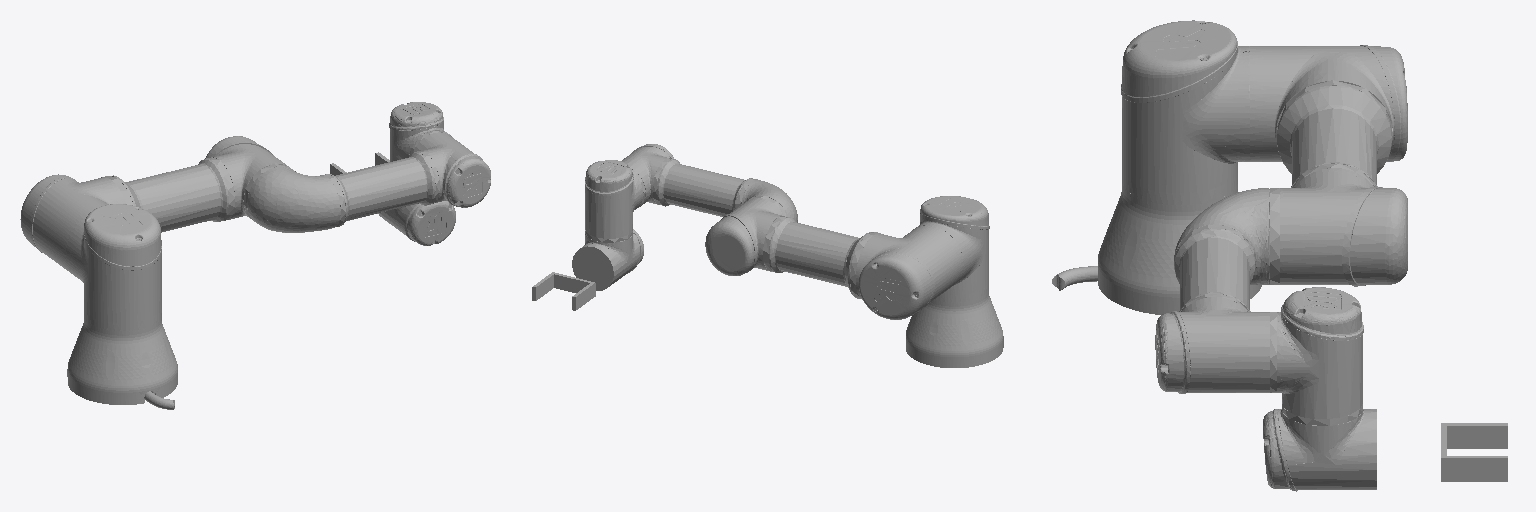
robot.urdf — ur3:
<?xml version="1.0" ?>
<!-- =================================================================================== -->
<!-- |    This document was autogenerated by xacro from [local-path]/devel/pinocchio/src/universal_robot/ur_description/urdf/ur3_joint_limited_robot.urdf.xacro | -->
<!-- |    EDITING THIS FILE BY HAND IS NOT RECOMMENDED                                 | -->
<!-- =================================================================================== -->
<robot name="ur3" xmlns:xacro="http://www.ros.org/wiki/xacro">
  <!-- common stuff -->
  <gazebo>
    <plugin filename="libgazebo_ros_control.so" name="ros_control">
      <!--robotNamespace>/</robotNamespace-->
      <!--robotSimType>gazebo_ros_control/DefaultRobotHWSim</robotSimType-->
    </plugin>
    <!--
    <plugin name="gazebo_ros_power_monitor_controller" filename="libgazebo_ros_power_monitor.so">
      <alwaysOn>true</alwaysOn>
      <updateRate>1.0</updateRate>
      <timeout>5</timeout>
      <powerStateTopic>power_state</powerStateTopic>
      <powerStateRate>10.0</powerStateRate>
      <fullChargeCapacity>87.78</fullChargeCapacity>     
      <dischargeRate>-474</dischargeRate>
      <chargeRate>525</chargeRate>
      <dischargeVoltage>15.52</dischargeVoltage>
      <chargeVoltage>16.41</chargeVoltage>
    </plugin>
-->
  </gazebo>
  <!-- ur3 -->
  <!--
  Author: [author]
-->
  <!-- Inertia parameters -->
  <!-- This mass might be incorrect -->
  <!-- These parameters are borrowed from the urcontrol.conf file
       but are not verified for the correct permutation.
       The permutation was guessed by looking at the UR5 parameters.
       Serious use of these parameters needs further inspection. -->
  <!-- Kinematic model -->
  <!-- Properties from urcontrol.conf -->
  <!-- Arbitrary offsets for shoulder/elbow joints -->
  <!-- measured from model -->
  <!-- measured from model -->
  <!-- link lengths used in model -->
  <!-- arm -->
  <link name="base_link">
    <visual>
      <geometry>
        <mesh filename="package://ur_description/meshes/ur3/visual/base.dae"/>
      </geometry>
      <material name="LightGrey">
        <color rgba="0.7 0.7 0.7 1.0"/>
      </material>
    </visual>
    <collision>
      <geometry>
        <mesh filename="package://ur_description/meshes/ur3/collision/base.stl"/>
      </geometry>
    </collision>
    <inertial>
      <mass value="2.0"/>
      <origin rpy="0 0 0" xyz="0.0 0.0 0.0"/>
      <inertia ixx="0.0030531654454" ixy="0.0" ixz="0.0" iyy="0.0030531654454" iyz="0.0" izz="0.005625"/>
    </inertial>
  </link>
  <joint name="shoulder_pan_joint" type="revolute">
    <parent link="base_link"/>
    <child link="shoulder_link"/>
    <origin rpy="0.0 0.0 0.0" xyz="0.0 0.0 0.1519"/>
    <axis xyz="0 0 1"/>
    <limit effort="330.0" lower="-3.14159265" upper="3.14159265" velocity="2.16"/>
    <dynamics damping="0.0" friction="0.0"/>
  </joint>
  <link name="shoulder_link">
    <visual>
      <geometry>
        <mesh filename="package://ur_description/meshes/ur3/visual/shoulder.dae"/>
      </geometry>
      <material name="LightGrey">
        <color rgba="0.7 0.7 0.7 1.0"/>
      </material>
    </visual>
    <collision>
      <geometry>
        <mesh filename="package://ur_description/meshes/ur3/collision/shoulder.stl"/>
      </geometry>
    </collision>
    <inertial>
      <mass value="2.0"/>
      <origin rpy="0 0 0" xyz="0.0 0.0 0.0"/>
      <inertia ixx="0.0080931634294" ixy="0.0" ixz="0.0" iyy="0.0080931634294" iyz="0.0" izz="0.005625"/>
    </inertial>
  </link>
  <joint name="shoulder_lift_joint" type="revolute">
    <parent link="shoulder_link"/>
    <child link="upper_arm_link"/>
    <origin rpy="0.0 1.570796325 0.0" xyz="0.0 0.1198 0.0"/>
    <axis xyz="0 1 0"/>
    <limit effort="330.0" lower="-3.14159265" upper="3.14159265" velocity="2.16"/>
    <dynamics damping="0.0" friction="0.0"/>
  </joint>
  <link name="upper_arm_link">
    <visual>
      <geometry>
        <mesh filename="package://ur_description/meshes/ur3/visual/upperarm.dae"/>
      </geometry>
      <material name="LightGrey">
        <color rgba="0.7 0.7 0.7 1.0"/>
      </material>
    </visual>
    <collision>
      <geometry>
        <mesh filename="package://ur_description/meshes/ur3/collision/upperarm.stl"/>
      </geometry>
    </collision>
    <inertial>
      <mass value="3.42"/>
      <origin rpy="0 0 0" xyz="0.0 0.0 0.121825"/>
      <inertia ixx="0.0217284832211" ixy="0.0" ixz="0.0" iyy="0.0217284832211" iyz="0.0" izz="0.00961875"/>
    </inertial>
  </link>
  <joint name="elbow_joint" type="revolute">
    <parent link="upper_arm_link"/>
    <child link="forearm_link"/>
    <origin rpy="0.0 0.0 0.0" xyz="0.0 -0.0925 0.24365"/>
    <axis xyz="0 1 0"/>
    <limit effort="150.0" lower="-3.14159265" upper="3.14159265" velocity="3.15"/>
    <dynamics damping="0.0" friction="0.0"/>
  </joint>
  <link name="forearm_link">
    <visual>
      <geometry>
        <mesh filename="package://ur_description/meshes/ur3/visual/forearm.dae"/>
      </geometry>
      <material name="LightGrey">
        <color rgba="0.7 0.7 0.7 1.0"/>
      </material>
    </visual>
    <collision>
      <geometry>
        <mesh filename="package://ur_description/meshes/ur3/collision/forearm.stl"/>
      </geometry>
    </collision>
    <inertial>
      <mass value="1.26"/>
      <origin rpy="0 0 0" xyz="0.0 0.0 0.106625"/>
      <inertia ixx="0.00654680644378" ixy="0.0" ixz="0.0" iyy="0.00654680644378" iyz="0.0" izz="0.00354375"/>
    </inertial>
  </link>
  <joint name="wrist_1_joint" type="revolute">
    <parent link="forearm_link"/>
    <child link="wrist_1_link"/>
    <origin rpy="0.0 1.570796325 0.0" xyz="0.0 0.0 0.21325"/>
    <axis xyz="0 1 0"/>
    <limit effort="54.0" lower="-3.14159265" upper="3.14159265" velocity="3.2"/>
    <dynamics damping="0.0" friction="0.0"/>
  </joint>
  <link name="wrist_1_link">
    <visual>
      <geometry>
        <mesh filename="package://ur_description/meshes/ur3/visual/wrist1.dae"/>
      </geometry>
      <material name="LightGrey">
        <color rgba="0.7 0.7 0.7 1.0"/>
      </material>
    </visual>
    <collision>
      <geometry>
        <mesh filename="package://ur_description/meshes/ur3/collision/wrist1.stl"/>
      </geometry>
    </collision>
    <inertial>
      <mass value="0.8"/>
      <origin rpy="0 0 0" xyz="0.0 0.0 0.0"/>
      <inertia ixx="0.002084999166" ixy="0.0" ixz="0.0" iyy="0.002084999166" iyz="0.0" izz="0.00225"/>
    </inertial>
  </link>
  <joint name="wrist_2_joint" type="revolute">
    <parent link="wrist_1_link"/>
    <child link="wrist_2_link"/>
    <origin rpy="0.0 0.0 0.0" xyz="0.0 0.08505 0.0"/>
    <axis xyz="0 0 1"/>
    <limit effort="54.0" lower="-3.14159265" upper="3.14159265" velocity="3.2"/>
    <dynamics damping="0.0" friction="0.0"/>
  </joint>
  <link name="wrist_2_link">
    <visual>
      <geometry>
        <mesh filename="package://ur_description/meshes/ur3/visual/wrist2.dae"/>
      </geometry>
      <material name="LightGrey">
        <color rgba="0.7 0.7 0.7 1.0"/>
      </material>
    </visual>
    <collision>
      <geometry>
        <mesh filename="package://ur_description/meshes/ur3/collision/wrist2.stl"/>
      </geometry>
    </collision>
    <inertial>
      <mass value="0.8"/>
      <origin rpy="0 0 0" xyz="0.0 0.0 0.0"/>
      <inertia ixx="0.002084999166" ixy="0.0" ixz="0.0" iyy="0.002084999166" iyz="0.0" izz="0.00225"/>
    </inertial>
  </link>
  <joint name="wrist_3_joint" type="revolute">
    <parent link="wrist_2_link"/>
    <child link="wrist_3_link"/>
    <origin rpy="0.0 0.0 0.0" xyz="0.0 0.0 0.08535"/>
    <axis xyz="0 1 0"/>
    <limit effort="54.0" lower="-3.14159265" upper="3.14159265" velocity="3.2"/>
    <dynamics damping="0.0" friction="0.0"/>
  </joint>
  <link name="wrist_3_link">
    <visual>
      <geometry>
        <mesh filename="package://ur_description/meshes/ur3/visual/wrist3.dae"/>
      </geometry>
      <material name="LightGrey">
        <color rgba="0.7 0.7 0.7 1.0"/>
      </material>
    </visual>
    <collision>
      <geometry>
        <mesh filename="package://ur_description/meshes/ur3/collision/wrist3.stl"/>
      </geometry>
    </collision>
    <inertial>
      <mass value="0.35"/>
      <origin rpy="0 0 0" xyz="0.0 0.0 0.0"/>
      <inertia ixx="0.000912187135125" ixy="0.0" ixz="0.0" iyy="0.000912187135125" iyz="0.0" izz="0.000984375"/>
    </inertial>
  </link>
  <joint name="ee_fixed_joint" type="fixed">
    <parent link="wrist_3_link"/>
    <child link="ee_link"/>
    <origin rpy="0.0 0.0 1.570796325" xyz="0.0 0.0819 0.0"/>
  </joint>
  <link name="ee_link">
    <collision>
      <geometry>
        <box size="0.01 0.01 0.01"/>
      </geometry>
      <origin rpy="0 0 0" xyz="-0.01 0 0"/>
    </collision>
  </link>
  <transmission name="shoulder_pan_trans">
    <type>transmission_interface/SimpleTransmission</type>
    <joint name="shoulder_pan_joint">
      <hardwareInterface>PositionJointInterface</hardwareInterface>
    </joint>
    <actuator name="shoulder_pan_motor">
      <mechanicalReduction>1</mechanicalReduction>
    </actuator>
  </transmission>
  <transmission name="shoulder_lift_trans">
    <type>transmission_interface/SimpleTransmission</type>
    <joint name="shoulder_lift_joint">
      <hardwareInterface>PositionJointInterface</hardwareInterface>
    </joint>
    <actuator name="shoulder_lift_motor">
      <mechanicalReduction>1</mechanicalReduction>
    </actuator>
  </transmission>
  <transmission name="elbow_trans">
    <type>transmission_interface/SimpleTransmission</type>
    <joint name="elbow_joint">
      <hardwareInterface>PositionJointInterface</hardwareInterface>
    </joint>
    <actuator name="elbow_motor">
      <mechanicalReduction>1</mechanicalReduction>
    </actuator>
  </transmission>
  <transmission name="wrist_1_trans">
    <type>transmission_interface/SimpleTransmission</type>
    <joint name="wrist_1_joint">
      <hardwareInterface>PositionJointInterface</hardwareInterface>
    </joint>
    <actuator name="wrist_1_motor">
      <mechanicalReduction>1</mechanicalReduction>
    </actuator>
  </transmission>
  <transmission name="wrist_2_trans">
    <type>transmission_interface/SimpleTransmission</type>
    <joint name="wrist_2_joint">
      <hardwareInterface>PositionJointInterface</hardwareInterface>
    </joint>
    <actuator name="wrist_2_motor">
      <mechanicalReduction>1</mechanicalReduction>
    </actuator>
  </transmission>
  <transmission name="wrist_3_trans">
    <type>transmission_interface/SimpleTransmission</type>
    <joint name="wrist_3_joint">
      <hardwareInterface>PositionJointInterface</hardwareInterface>
    </joint>
    <actuator name="wrist_3_motor">
      <mechanicalReduction>1</mechanicalReduction>
    </actuator>
  </transmission>
  <!-- nothing to do here at the moment -->
  <!-- ROS base_link to UR 'Base' Coordinates transform -->
  <link name="base"/>
  <joint name="base_link-base_fixed_joint" type="fixed">
    <!-- NOTE: this rotation is only needed as long as base_link itself is
                 not corrected wrt the real robot (ie: rotated over 180
                 degrees)
      -->
    <origin rpy="0 0 -3.14159265" xyz="0 0 0"/>
    <parent link="base_link"/>
    <child link="base"/>
  </joint>
  <!-- Frame coincident with all-zeros TCP on UR controller -->
  <link name="tool0">
    <visual>
      <geometry>
	<box size="0.005 0.02 0.05" />
      </geometry>
      <origin xyz="0.03 0 0.035" />
      <material name="LightGrey">
        <color rgba="0.7 0.7 0.7 1.0"/>
      </material>
    </visual>
    <visual>
      <geometry>
	<box size="0.005 0.02 0.05" />
      </geometry>
      <origin xyz="-0.03 0 0.035" />
      <material name="LightGrey">
        <color rgba="0.7 0.7 0.7 1.0"/>
      </material>
    </visual>
    <visual>
      <geometry>
	<box size="0.065 0.02 0.005" />
      </geometry>
      <origin xyz="0 0 0.01" />
      <material name="LightGrey">
        <color rgba="0.7 0.7 0.7 1.0"/>
      </material>
    </visual>

    <collision>
      <geometry>
	<box size="0.005 0.02 0.05" />
      </geometry>
      <origin xyz="0.03 0 0.035" />
    </collision>
    <collision>
      <geometry>
	<box size="0.005 0.02 0.05" />
      </geometry>
      <origin xyz="-0.03 0 0.035" />
    </collision>
    <collision>
      <geometry>
	<box size="0.065 0.02 0.005" />
      </geometry>
      <origin xyz="0 0 0.01" />
    </collision>
  </link>
  <joint name="wrist_3_link-tool0_fixed_joint" type="fixed">
    <origin rpy="-1.570796325 0 0" xyz="0 0.0823 0"/>
    <parent link="wrist_3_link"/>
    <child link="tool0"/>
  </joint>
  <link name="world"/>
  <joint name="world_joint" type="fixed">
    <parent link="world"/>
    <child link="base_link"/>
    <origin rpy="0.0 0.0 0.0" xyz="0.0 0.0 0.0"/>
  </joint>
</robot>

--- Render facts (derived) ---
3 views of the same robot in one strip: view 1: azimuth 30°, elevation 25°; view 2: azimuth 150°, elevation 25°; view 3: azimuth 270°, elevation 25° (orthographic).
Model ur3 with 11 links and 10 joints (6 revolute, 4 fixed), rooted at world, posed all joints at 0.
Visible links, largest first — view 1: forearm_link, upper_arm_link, shoulder_link, base_link, wrist_1_link, wrist_2_link; view 2: upper_arm_link, forearm_link, base_link, shoulder_link, wrist_1_link, wrist_2_link, tool0; view 3: upper_arm_link, shoulder_link, forearm_link, wrist_1_link, base_link, wrist_2_link, tool0.
Link boxes in pixels (x1,y1,x2,y2): forearm_link: [247, 132, 490, 232]; upper_arm_link: [20, 136, 289, 273]; shoulder_link: [66, 204, 161, 330]; base_link: [67, 316, 177, 409]; wrist_1_link: [389, 102, 451, 161]; wrist_2_link: [378, 201, 455, 245]; upper_arm_link: [705, 196, 963, 319]; forearm_link: [622, 144, 797, 222]; base_link: [906, 290, 1003, 367]; shoulder_link: [913, 196, 989, 302]; wrist_1_link: [585, 160, 645, 238]; wrist_2_link: [572, 229, 643, 290]; tool0: [532, 272, 595, 310]; upper_arm_link: [1250, 45, 1407, 286]; shoulder_link: [1121, 20, 1249, 204]; forearm_link: [1155, 188, 1269, 393]; wrist_1_link: [1270, 287, 1363, 418]; base_link: [1052, 184, 1261, 314]; wrist_2_link: [1263, 404, 1376, 491]; tool0: [1441, 423, 1507, 481].
Bounding box of the posed robot: 0.5534 × 0.3541 × 0.2097 m (x, y, z).
Meshes: 7 distinct files referenced, 6 mesh visuals loaded (6 Collada DAE); not drawn: 1 (reference not matched to a file when rendering).